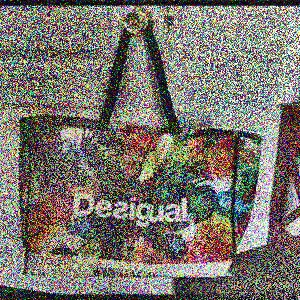desigual: (162, 95, 233, 285)
